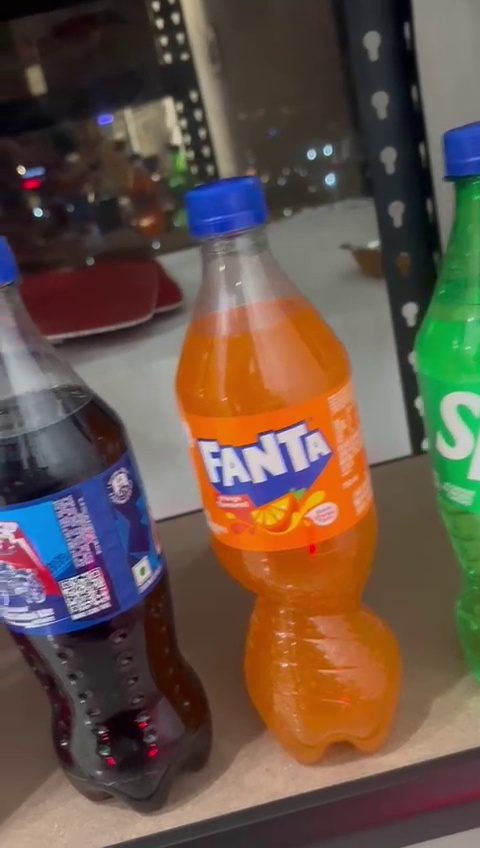Fanta: (158, 161, 433, 760)
